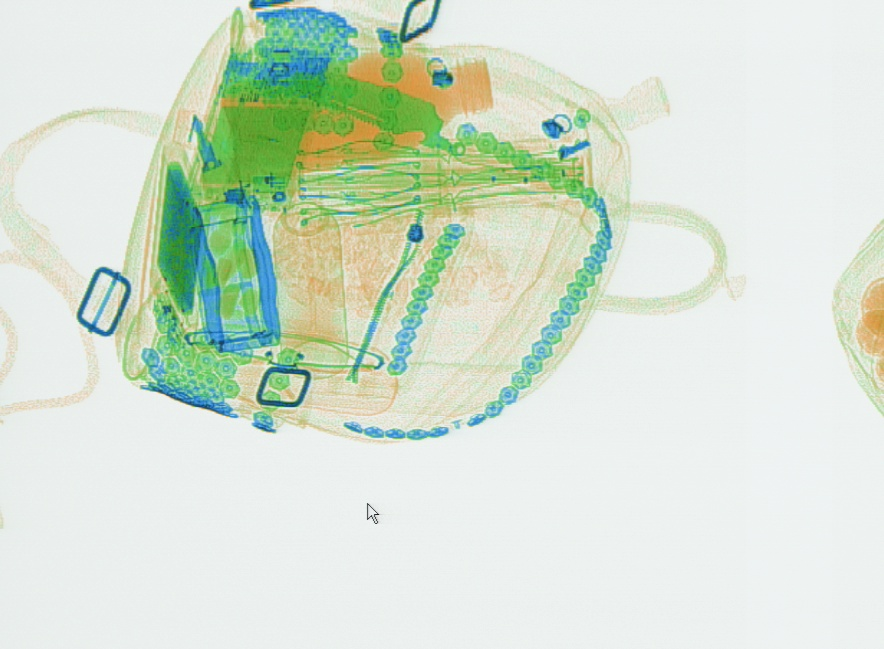knife: (278, 66, 464, 159)
pressure: (264, 176, 352, 381)
